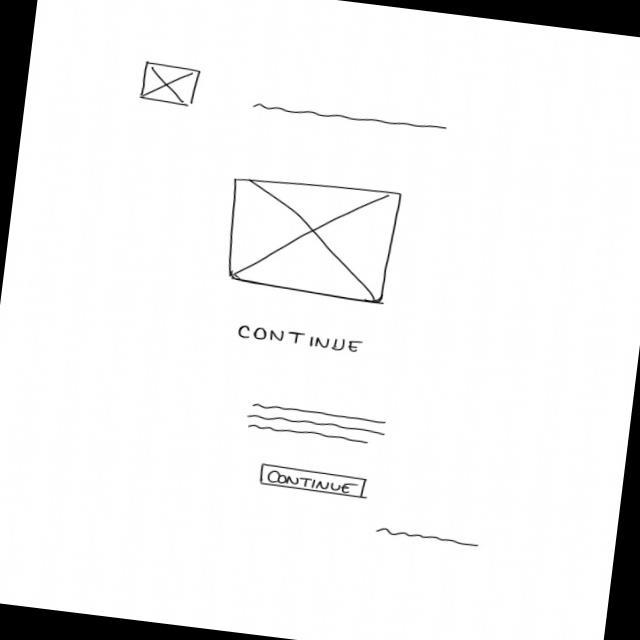button: (257, 463, 371, 501)
image: (220, 171, 403, 306), (137, 60, 202, 110)
label: (234, 323, 366, 357)
text: (250, 99, 451, 136), (376, 525, 483, 552)
textbox: (244, 400, 392, 449)
